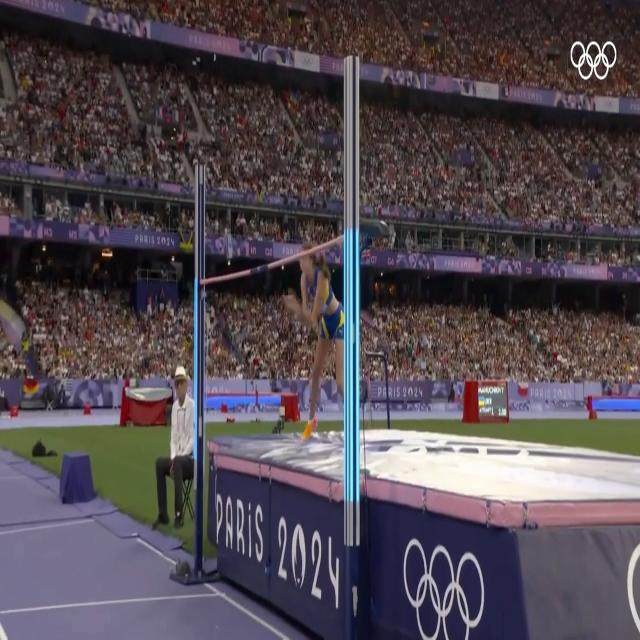land: (282, 240, 344, 440)
